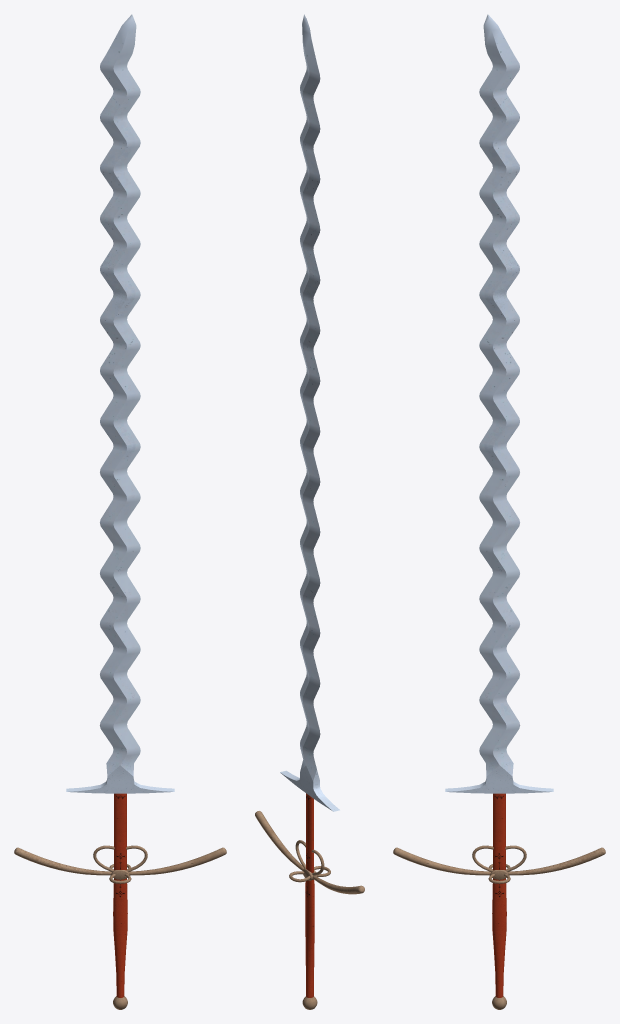
File: FlambergeSword.glb
3 renders of one model, left to right at view 1: azimuth 90°, elevation 25°; view 2: azimuth 210°, elevation 25°; view 3: azimuth 270°, elevation 25°, orthographic.
Parts seen in each view (by area): view 1: flamberge; view 2: flamberge; view 3: flamberge.
Boxes of the visible parts, x1,y1,x2,y2 form: flamberge: [14, 14, 226, 1009]; flamberge: [255, 14, 364, 1009]; flamberge: [393, 14, 605, 1009].
Bounding box in the file's own units: 0.0576 × 1.41 × 0.2741.
1 material, 1 textured.
